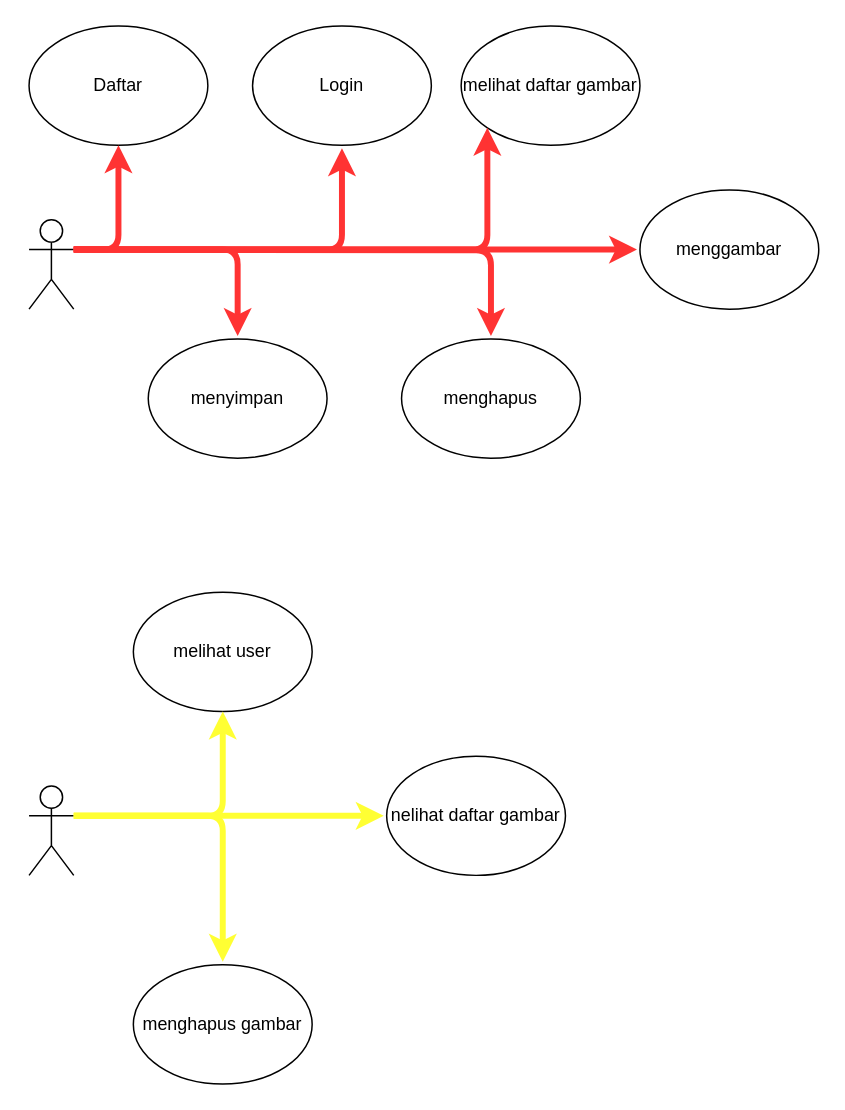
Some shapes in this 845 by 1110 pixel diagram are drawn without their labels. Here are the shapes that lost their labels. From the top down, the centre of each, then its label:
At point (51, 263): "USER".
At point (51, 829): "Admin".
